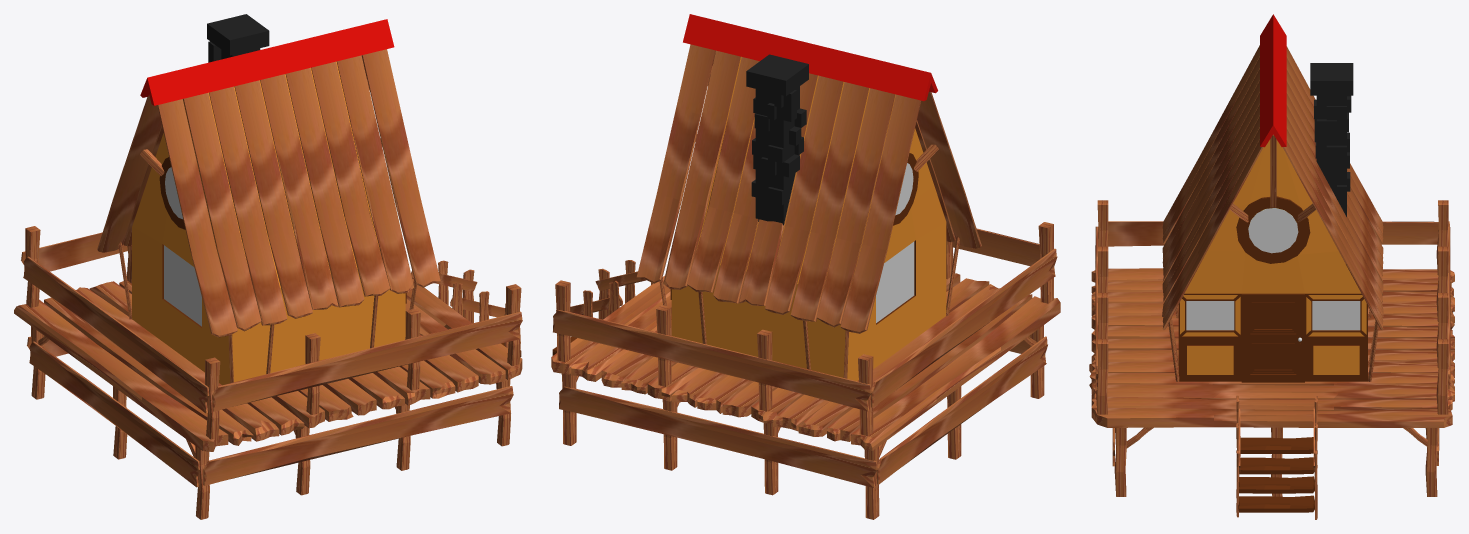
The model's file is Casetta.fbx.
3 renders of one model, left to right at view 1: azimuth 30°, elevation 25°; view 2: azimuth 150°, elevation 25°; view 3: azimuth 270°, elevation 25°, orthographic. The views are drawn at different scales.
Parts seen in each view (by area): view 1: Cube.001, Cube.003, Cube, Cube.034, Cube.028, Cube.005, Cube.033, Cube.027, Cube.031, Cube.004, Cube.025, Cube.035 (+4 smaller); view 2: Cube.004, Cube.003, Cube, Cube.032, Cube.026, Cube.036, Cube.005, Cube.033, Cube.027, Cube.031, Cube.001, Cube.025 (+4 smaller); view 3: Cube.003, Cube, Cube.001, Cube.004, Cube.007, Cube.031, Cube.036, Cube.035, Cube.005, Cube.033, Cube.025, Cube.032 (+2 smaller).
Boxes of the visible parts, <box> form: Cube.001: <box>157,49,440,337</box>; Cube.003: <box>14,278,522,451</box>; Cube: <box>132,61,406,385</box>; Cube.034: <box>212,311,522,411</box>; Cube.028: <box>203,386,513,485</box>; Cube.005: <box>140,19,394,105</box>; Cube.033: <box>23,256,209,413</box>; Cube.027: <box>29,341,199,487</box>; Cube.031: <box>25,226,521,445</box>; Cube.004: <box>97,55,364,252</box>; Cube.025: <box>31,326,510,519</box>; Cube.035: <box>164,167,201,326</box>; Cube.004: <box>636,44,920,333</box>; Cube.003: <box>551,273,1060,450</box>; Cube: <box>670,56,946,380</box>; Cube.032: <box>553,310,871,411</box>; Cube.026: <box>559,386,877,487</box>; Cube.036: <box>746,54,808,225</box>; Cube.005: <box>683,14,937,101</box>; Cube.033: <box>871,248,1057,407</box>; Cube.027: <box>877,336,1047,484</box>; Cube.031: <box>555,222,1053,435</box>; Cube.001: <box>712,51,981,248</box>; Cube.025: <box>561,325,1044,519</box>; Cube.003: <box>1089,268,1454,427</box>; Cube: <box>1178,139,1367,382</box>; Cube.001: <box>1162,45,1263,330</box>; Cube.004: <box>1282,46,1383,330</box>; Cube.007: <box>1238,437,1314,512</box>; Cube.031: <box>1096,200,1448,414</box>; Cube.036: <box>1310,63,1353,216</box>; Cube.035: <box>1186,208,1360,330</box>; Cube.005: <box>1260,14,1286,147</box>; Cube.033: <box>1098,221,1438,246</box>; Cube.025: <box>1114,427,1437,496</box>; Cube.032: <box>1448,221,1450,389</box>.
Size of the model in its own units: 845 by 768 by 718.
Materials: 7 (1 with a texture image).
